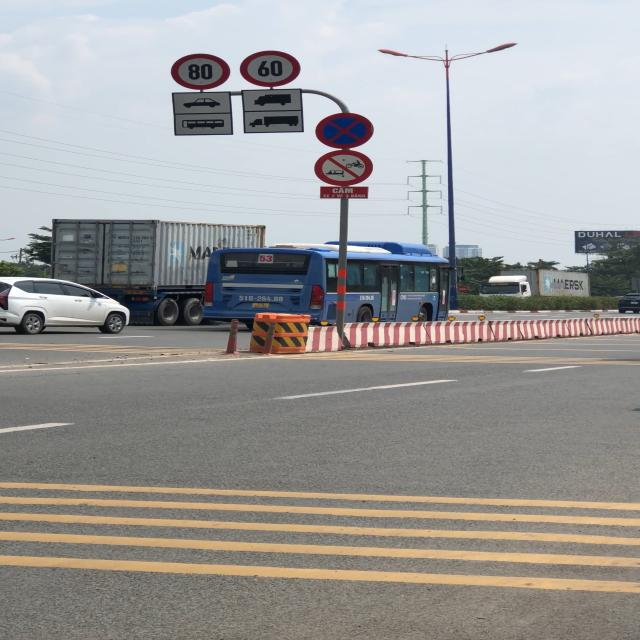Bien bao cam dung xe va do xe: (316, 110, 379, 151)
Bien bao toc do toi da cho phep: (238, 49, 301, 88), (170, 52, 232, 91)
